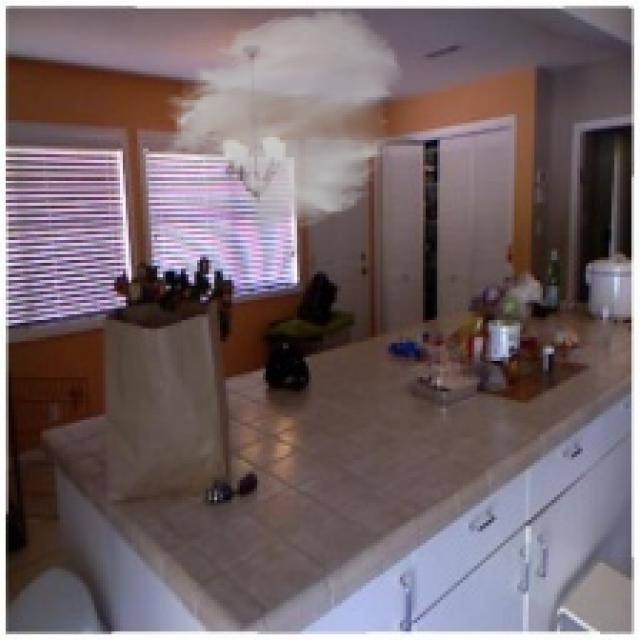smoke: (157, 6, 406, 231)
